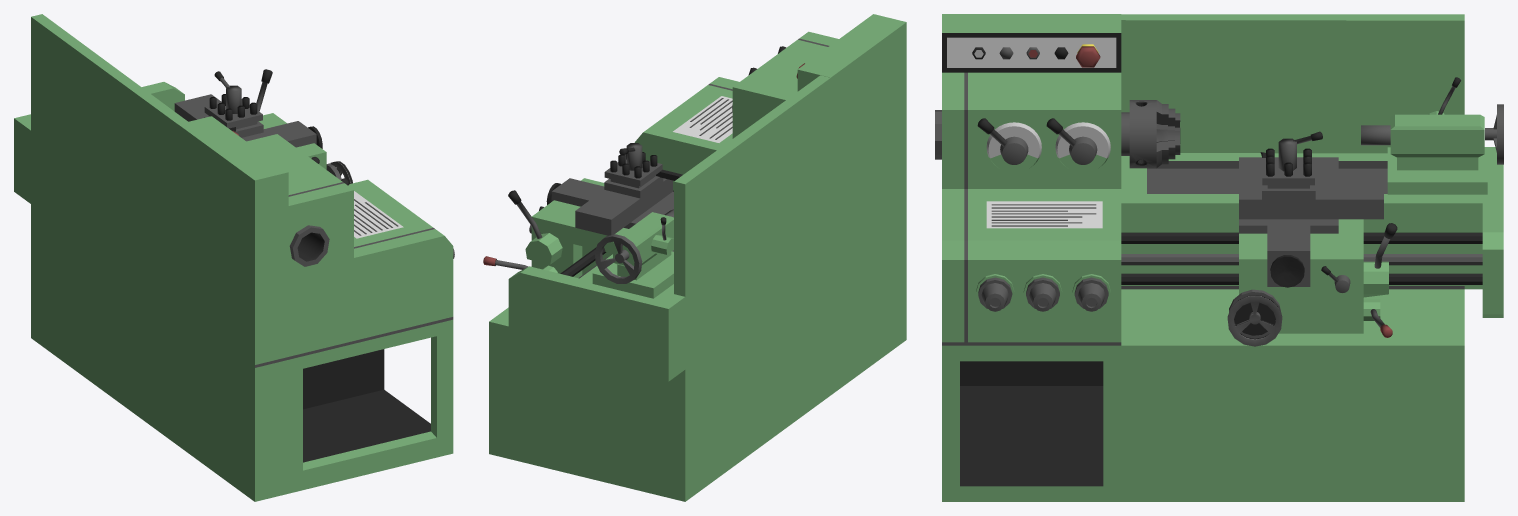
3 views of the same model, side by side, from view 1: azimuth 30°, elevation 25°; view 2: azimuth 150°, elevation 25°; view 3: azimuth 270°, elevation 25° (orthographic). The views are drawn at different scales.
Visible parts, largest first — view 1: Cube, Cube.003, Cube.002; view 2: Cube, Cube.003, Cube.004, Cube.002, Cylinder.029, Cylinder.013, Cube.001; view 3: Cube, Cube.003, Cube.002, Cube.004, Cylinder.016, Cylinder.007, Cylinder.006, Cylinder.005, Cylinder.032, Circle, Circle.001, Cube.001 (+7 smaller).
Boxes of the visible parts, x1=… form: Cube: x1=14, y1=14, x2=453, y2=501; Cube.003: x1=174, y1=94, x2=316, y2=147; Cube.002: x1=259, y1=113, x2=326, y2=169; Cube: x1=489, y1=14, x2=906, y2=501; Cube.003: x1=551, y1=156, x2=673, y2=235; Cube.004: x1=592, y1=212, x2=673, y2=298; Cube.002: x1=531, y1=178, x2=628, y2=277; Cylinder.029: x1=594, y1=234, x2=642, y2=283; Cylinder.013: x1=525, y1=233, x2=562, y2=264; Cube.001: x1=689, y1=98, x2=732, y2=139; Cube: x1=935, y1=14, x2=1503, y2=501; Cube.003: x1=1239, y1=157, x2=1383, y2=286; Cube.002: x1=1239, y1=219, x2=1363, y2=333; Cube.004: x1=1387, y1=114, x2=1487, y2=194; Cylinder.016: x1=1121, y1=100, x2=1180, y2=168; Cylinder.007: x1=1121, y1=232, x2=1482, y2=243; Cylinder.006: x1=1121, y1=254, x2=1482, y2=265; Cylinder.005: x1=1121, y1=273, x2=1482, y2=284; Cylinder.032: x1=1227, y1=289, x2=1282, y2=346; Circle: x1=1055, y1=122, x2=1110, y2=172; Circle.001: x1=986, y1=122, x2=1041, y2=172; Cube.001: x1=991, y1=204, x2=1096, y2=226.
Size of the model in its own units: 2.39 by 3.09 by 4.26.
